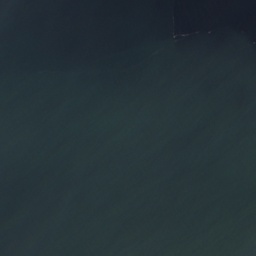Marine Debris: (172, 31, 200, 40), (206, 31, 211, 34)
